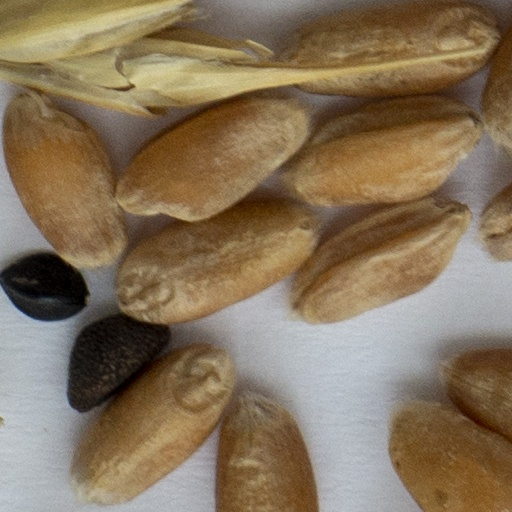Convolvulus-poly: (68, 316, 170, 409)
Fallopia-Convolvulus-poly: (0, 252, 87, 320)
